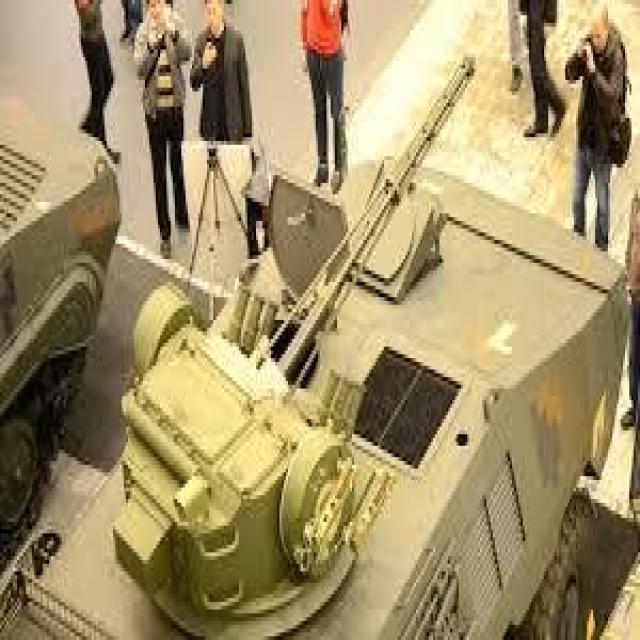Tanks: (128, 160, 627, 629), (7, 105, 122, 444)
